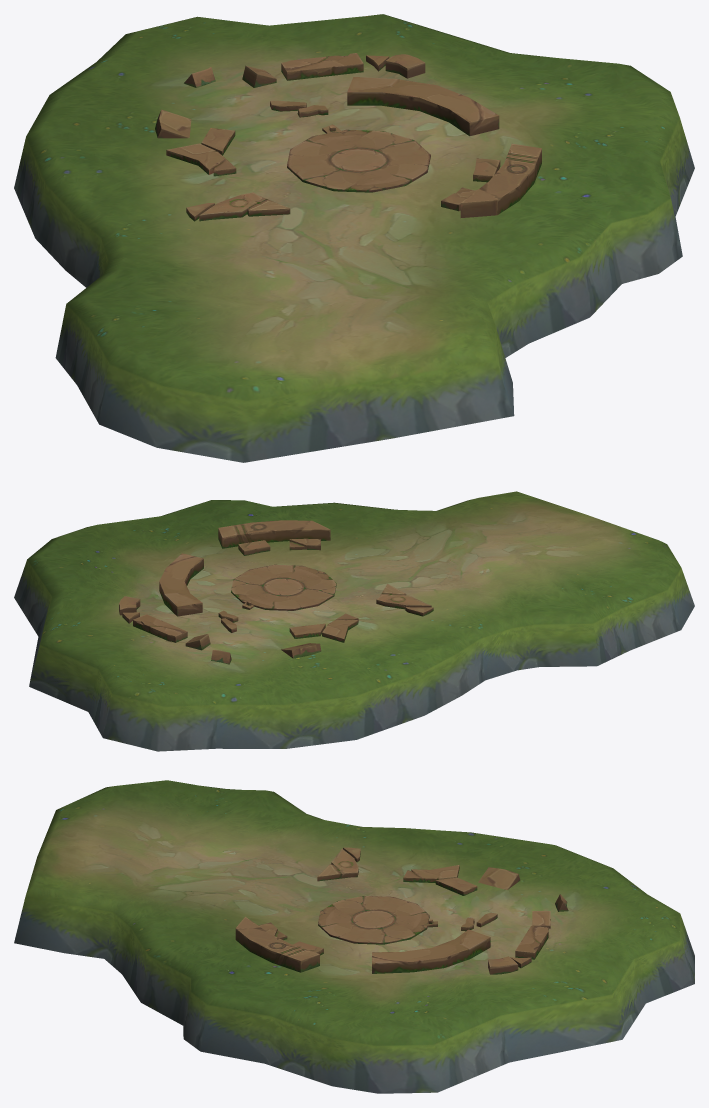
Rendered from scene_lawennushandao_terrain04.FBX.
3 renders of one model, top to bottom at view 1: azimuth 30°, elevation 25°; view 2: azimuth 150°, elevation 25°; view 3: azimuth 270°, elevation 25°, orthographic. The views are drawn at different scales.
Visible parts, largest first — view 1: scene_lawennushandao_terrain04; view 2: scene_lawennushandao_terrain04; view 3: scene_lawennushandao_terrain04.
Part boxes in pixels (bbox=[...]): scene_lawennushandao_terrain04: bbox=[14, 14, 694, 462]; scene_lawennushandao_terrain04: bbox=[14, 491, 694, 751]; scene_lawennushandao_terrain04: bbox=[14, 780, 694, 1093].
Size of the model in its own units: 1776 by 189 by 1849.
